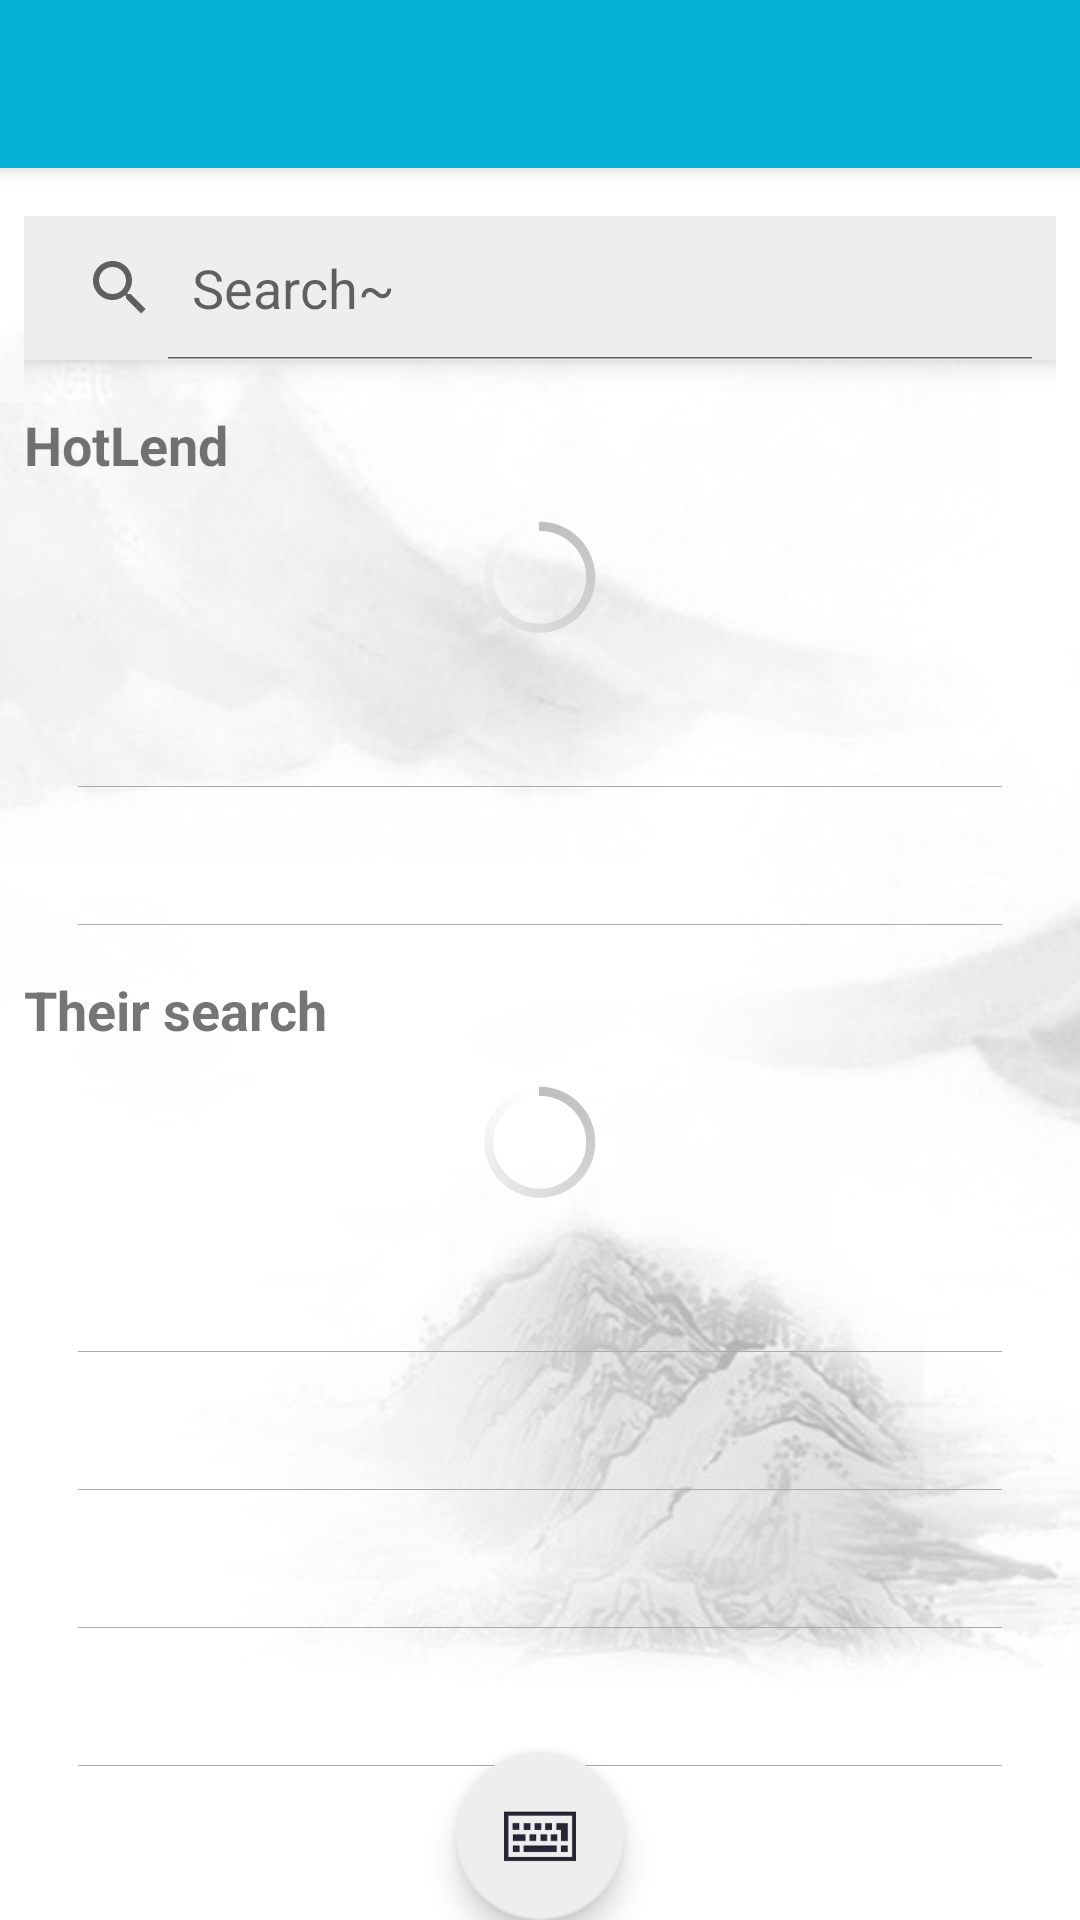

Locate icon controls on the screen. Image size 1080*1920, boxes as {"left": x1, "top": y1, "right": x2, "bottom": y2}.
input: {"left": 456, "top": 1752, "right": 624, "bottom": 1920}
